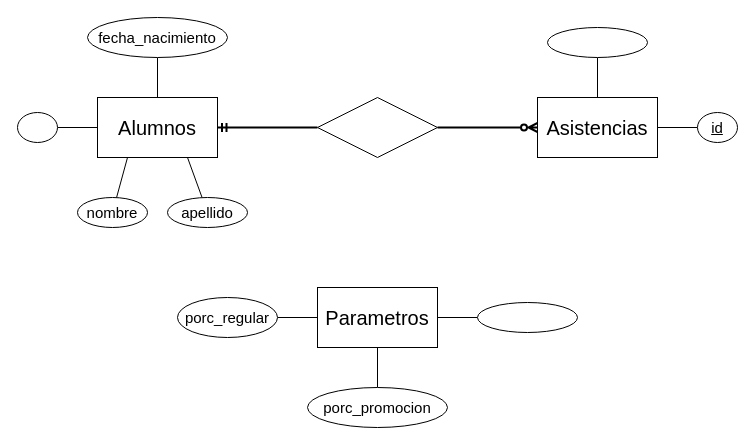
Image size: 755x445. Some labels were removed from this diagram. The centre of each missing label's shape, as x and y in pixels:
"cdad_clases" belongs at point (527, 317).
"dni" belongs at point (37, 127).
"fecha_hora" belongs at point (597, 42).
"tiene" belongs at point (377, 127).
